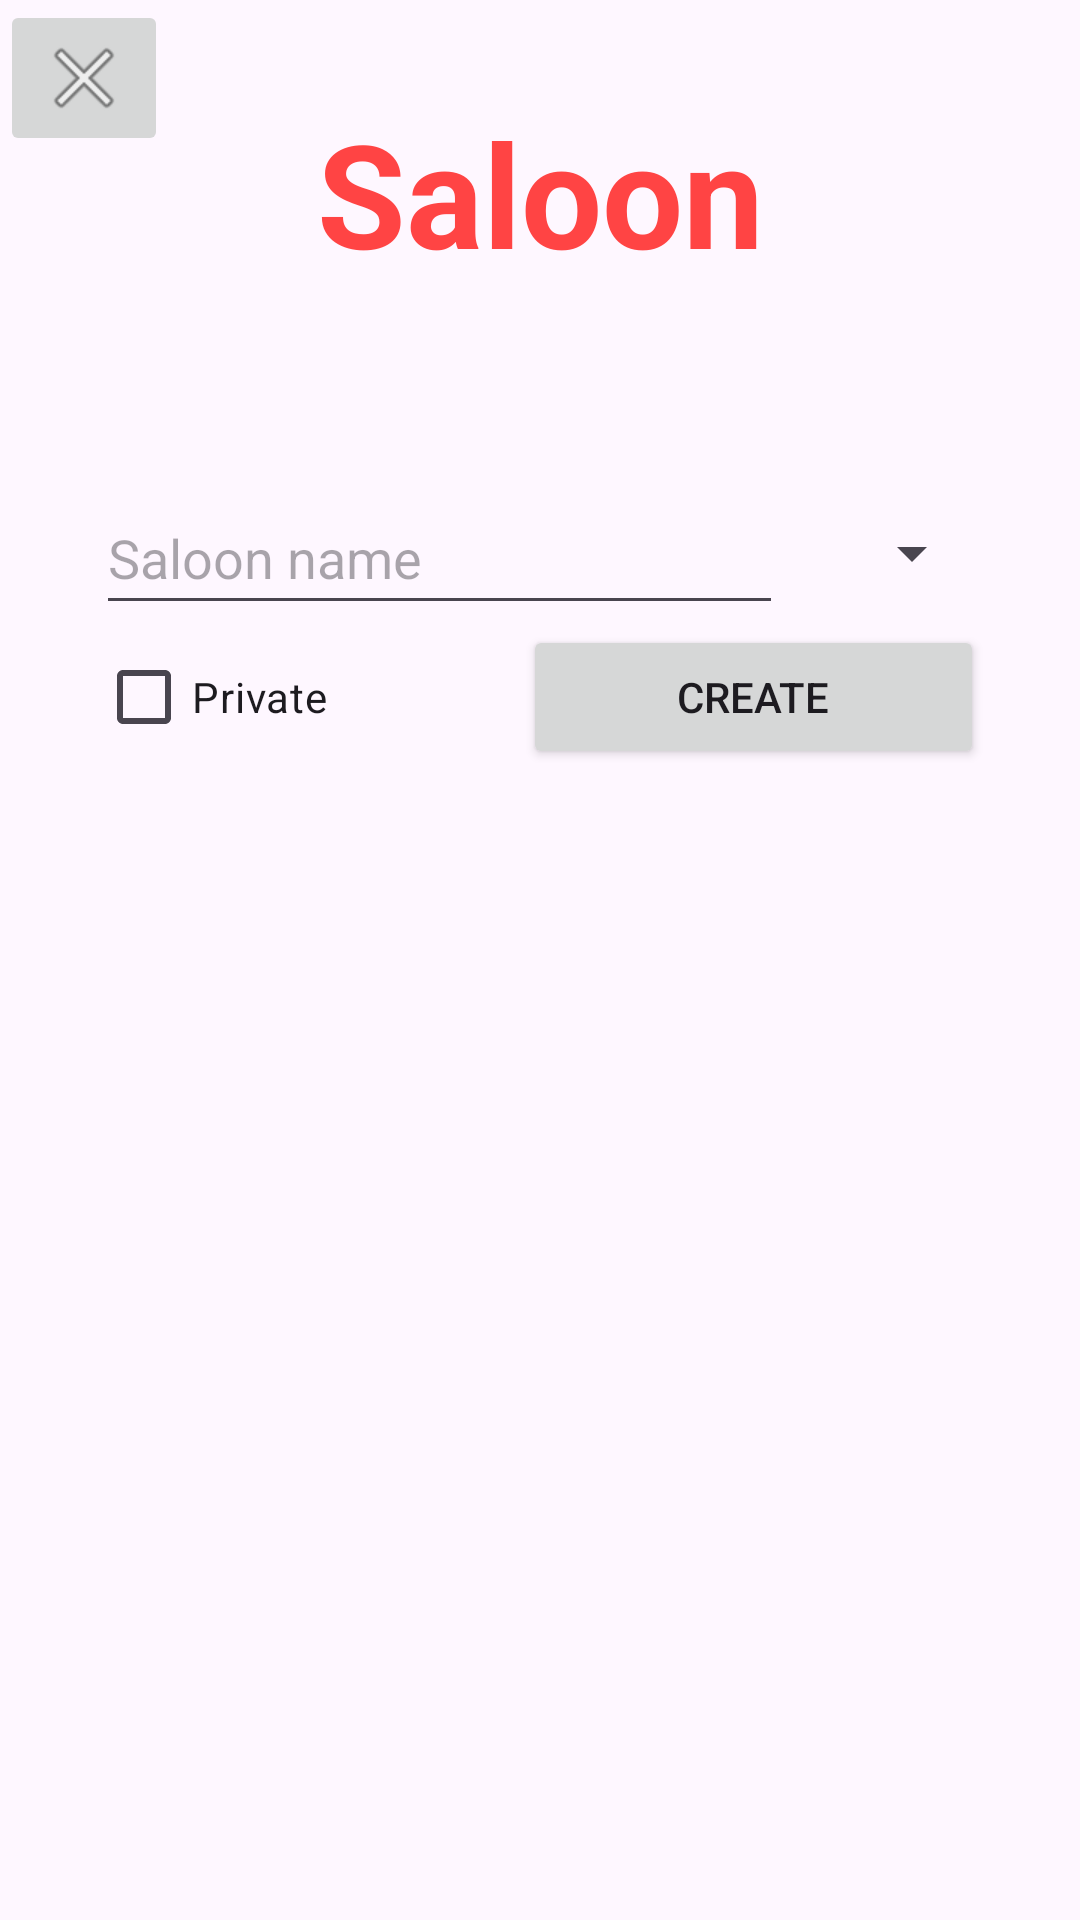

Named icons in this screenshot (1080*1920) and their centers, (x,y):
close clear cancel: (84,78)
